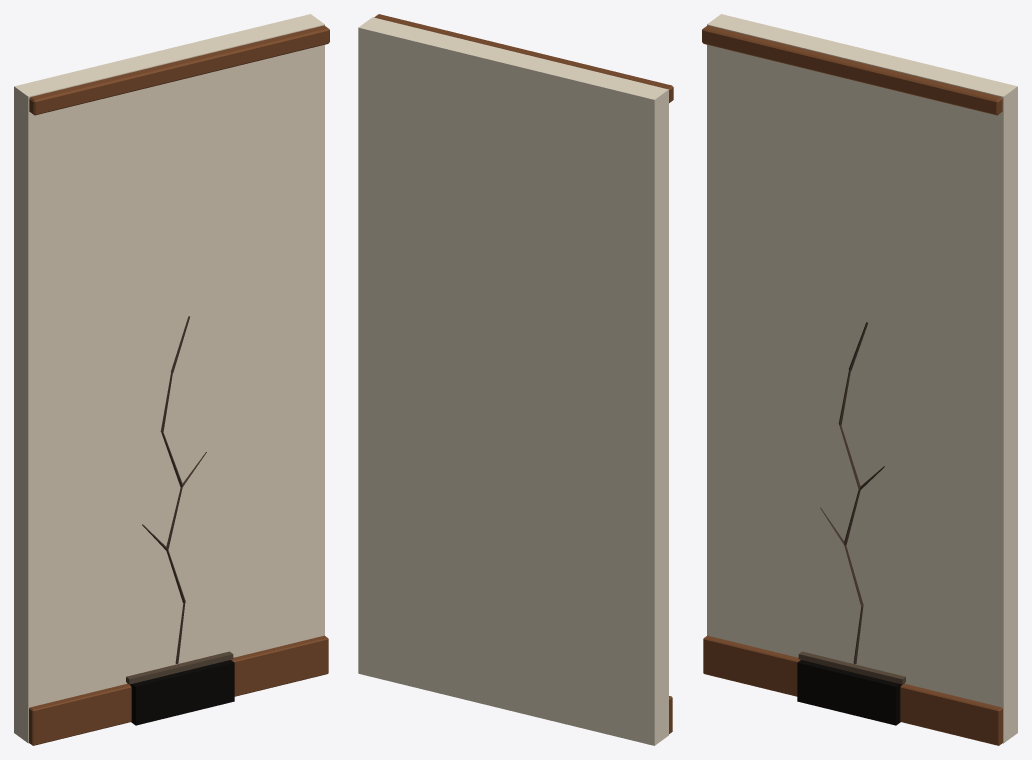
Rendered from wall_crack.glb.
3 views of the same model, side by side, from view 1: azimuth 30°, elevation 25°; view 2: azimuth 150°, elevation 25°; view 3: azimuth 330°, elevation 25° (orthographic).
Parts seen in each view (by area): view 1: wall_crack; view 2: wall_crack; view 3: wall_crack.
Part boxes in pixels (x1=…): wall_crack: x1=14, y1=14, x2=329, y2=745; wall_crack: x1=358, y1=14, x2=673, y2=745; wall_crack: x1=702, y1=14, x2=1017, y2=745.
Size of the model in its own units: 1.2 by 2.5 by 0.16.
